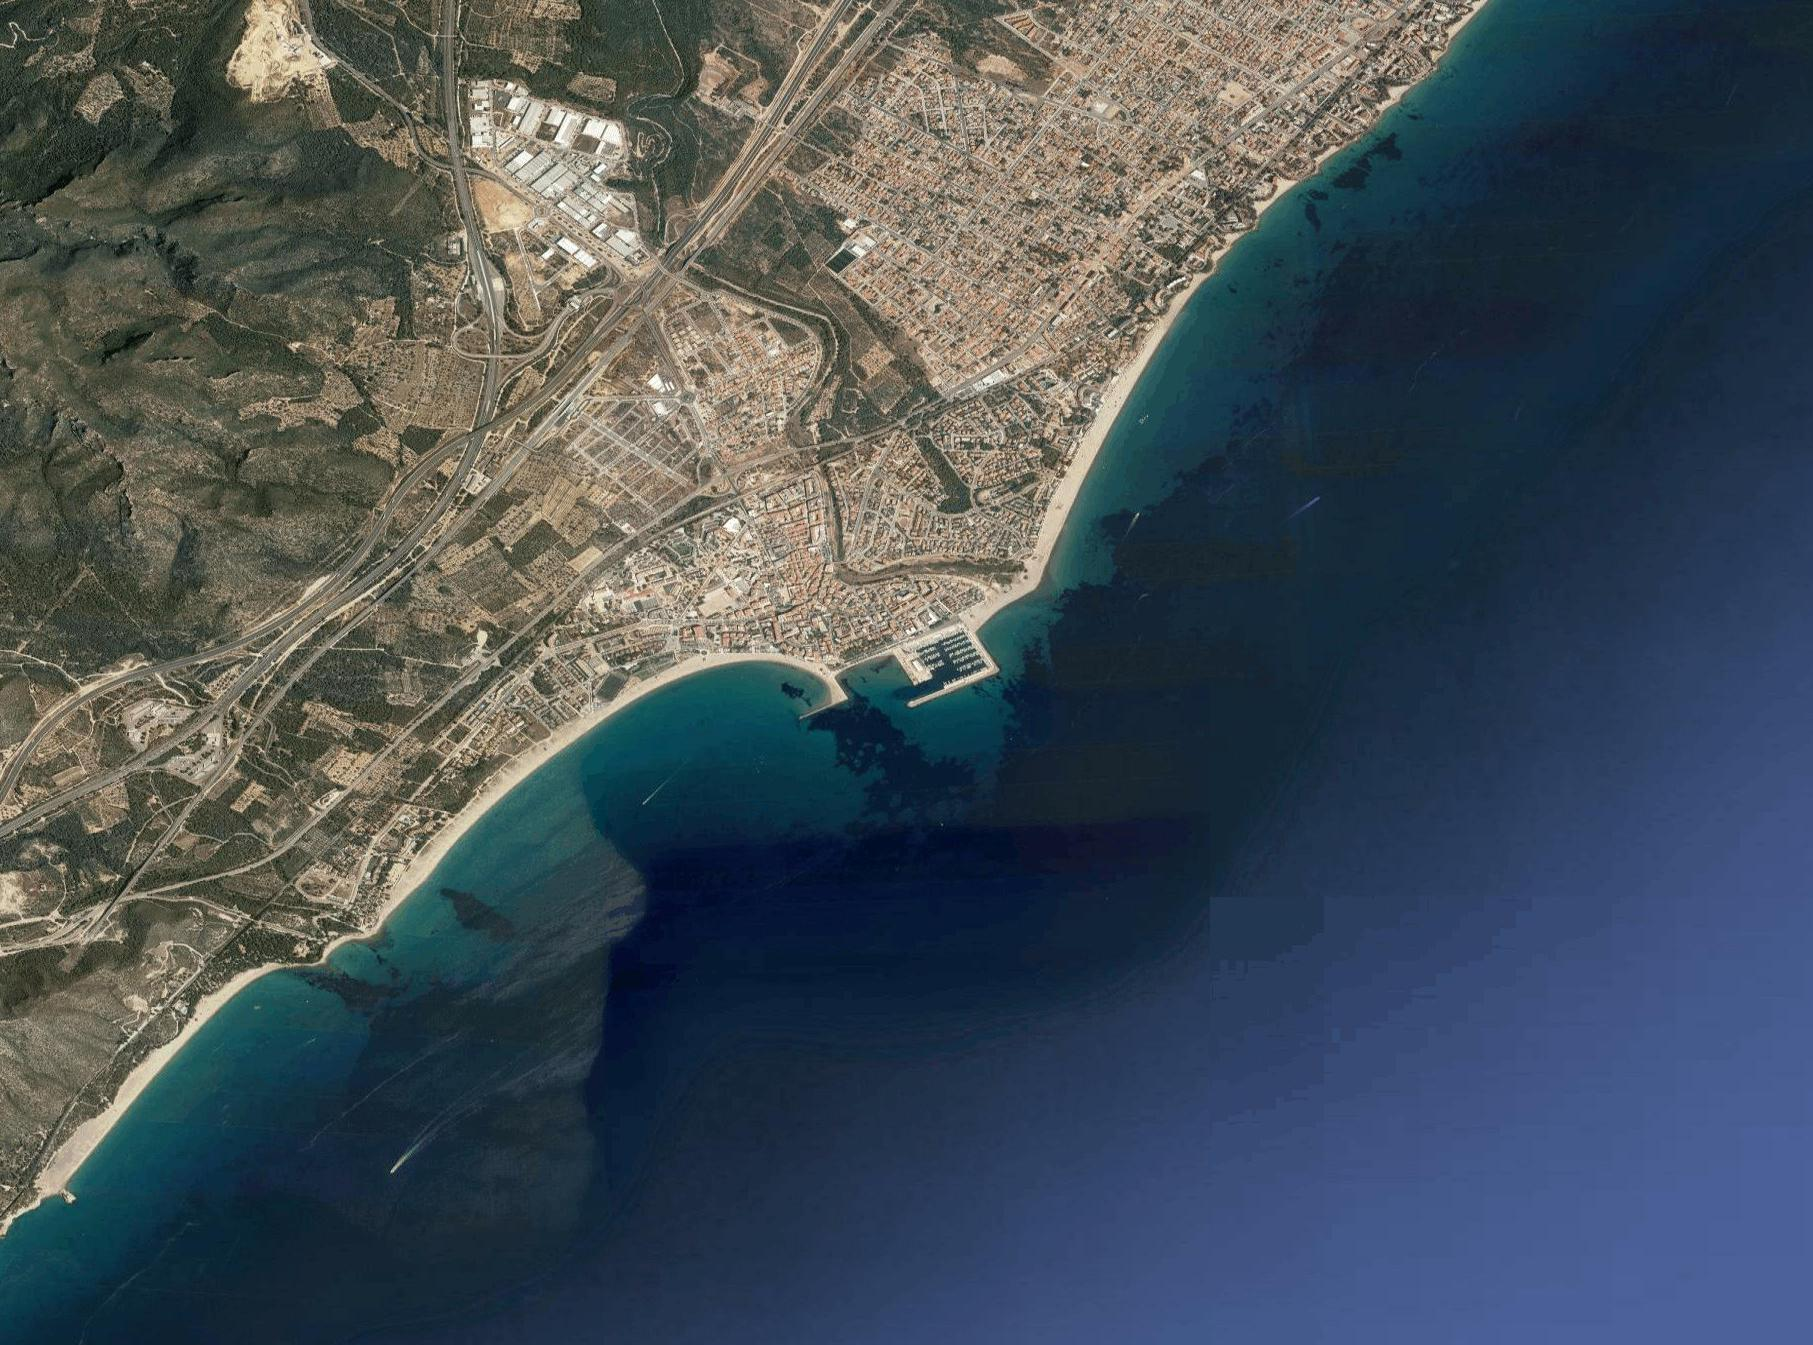harbor: (801, 608, 999, 740)
industrial: (468, 83, 654, 247)
motorway: (1, 660, 208, 835), (192, 569, 365, 737), (363, 441, 493, 589), (425, 102, 504, 271), (620, 196, 726, 309), (447, 270, 514, 442), (523, 302, 627, 414), (712, 85, 817, 196), (401, 1, 476, 112), (789, 1, 878, 89)
